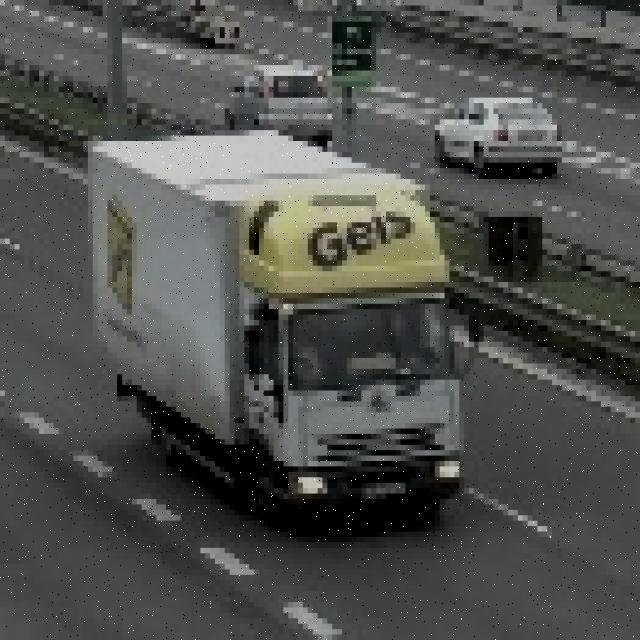truck: (88, 124, 488, 520)
